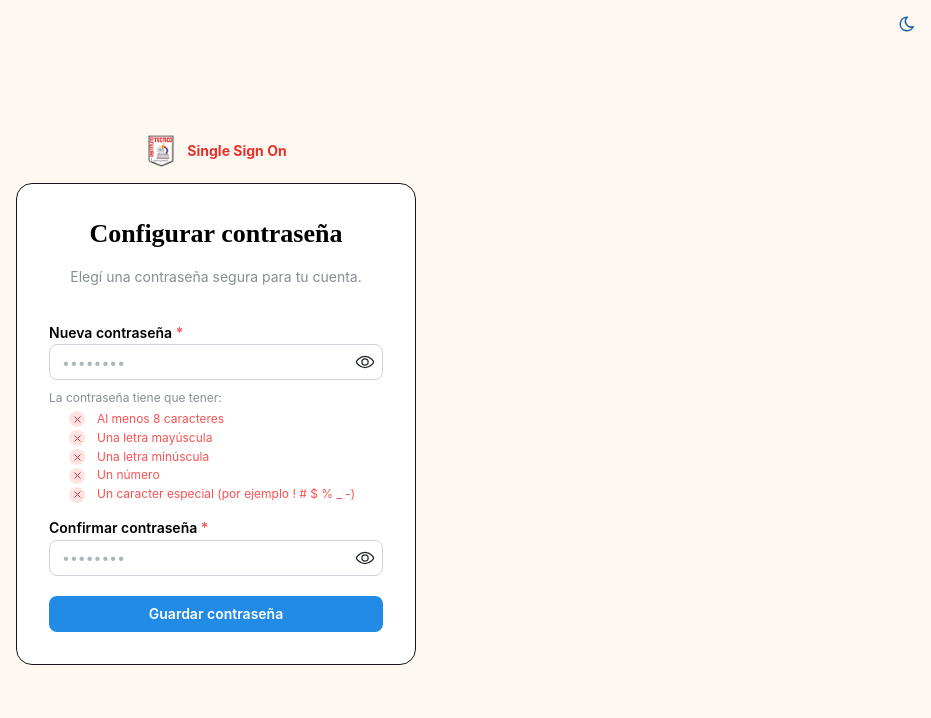
Test: SetPasswordPage › debería validar que las contraseñas coincidan antes de enviar
This screenshot has width=931, height=718.
Type "Password#123" into the password field labelled "Nueva contraseña *".
click(216, 362); type("Password#123")  # box x1=50 y1=345 x2=382 y2=379
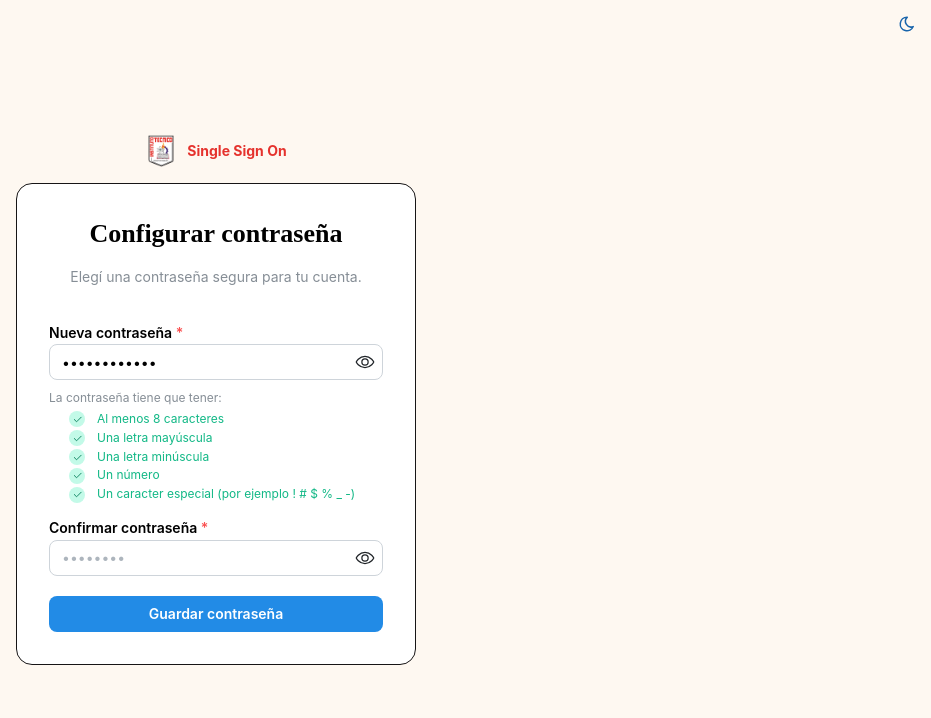
Type "Otra#12345" into the password field labelled "Confirmar contraseña *".
click(216, 558); type("Otra#12345")  # box x1=50 y1=541 x2=382 y2=575
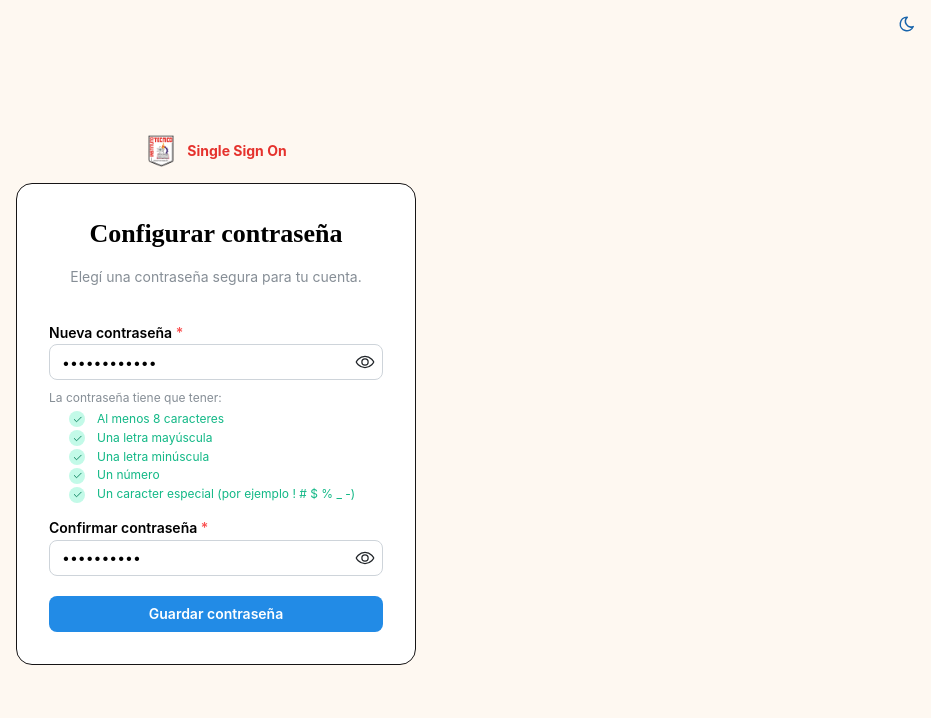
Click the button "Guardar contraseña".
click(216, 614)  # box x1=49 y1=596 x2=383 y2=632
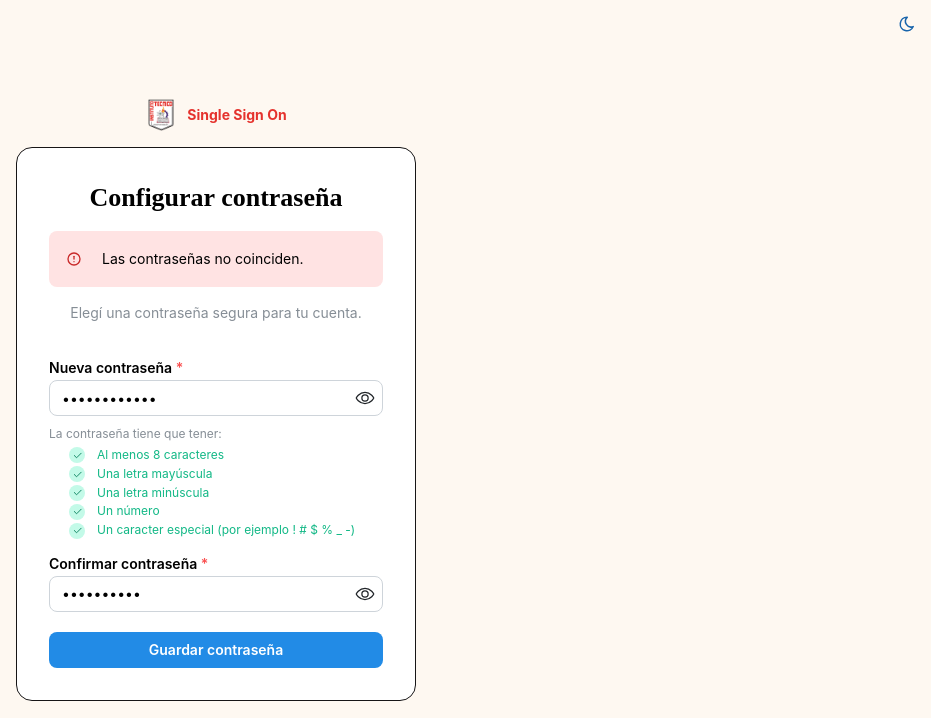
Now the text "Las contraseñas no coinciden." is shown, box x1=102 y1=250 x2=304 y2=267
